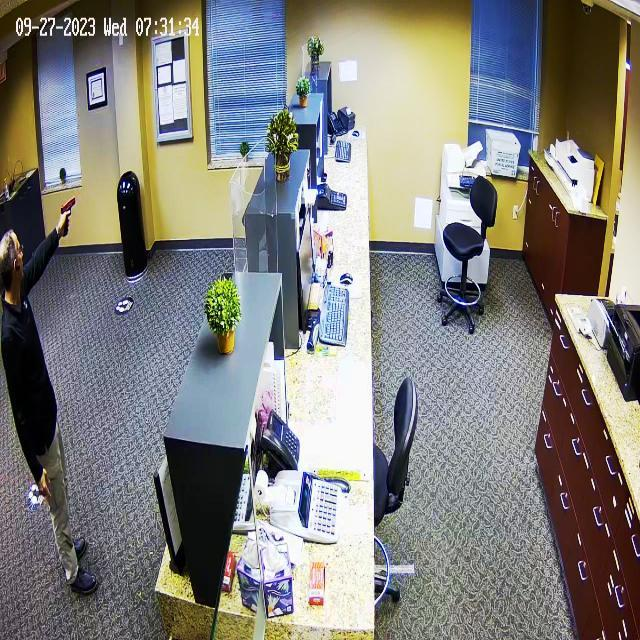Gun: (58, 188, 89, 232)
